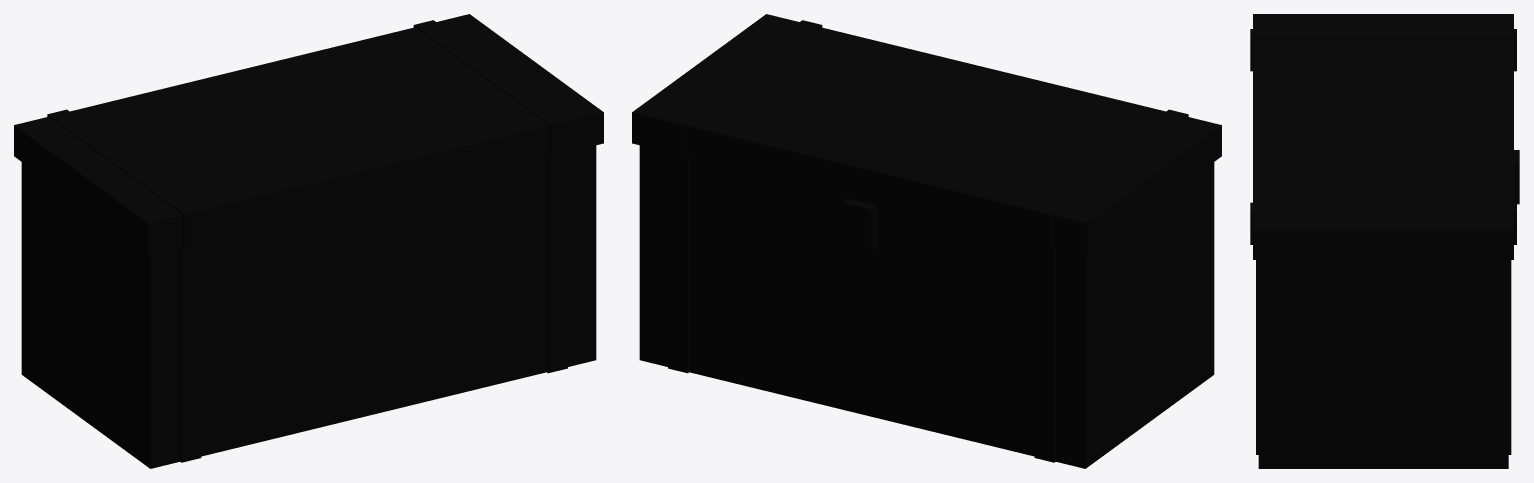
The model's file is SM_chest_trunk.fbx.
3 views of the same model, side by side, from view 1: azimuth 30°, elevation 25°; view 2: azimuth 150°, elevation 25°; view 3: azimuth 270°, elevation 25° (orthographic). The views are drawn at different scales.
Parts seen in each view (by area): view 1: chest_trunk, chest_trunk_lid; view 2: chest_trunk, chest_trunk_lid; view 3: chest_trunk_lid, chest_trunk.
Boxes of the visible parts, x1,y1,x2,y2 form: chest_trunk: (21,145,596,468); chest_trunk_lid: (14,14,603,254); chest_trunk: (639,145,1214,468); chest_trunk_lid: (632,14,1221,254); chest_trunk_lid: (1250,14,1516,259); chest_trunk: (1256,150,1519,468).
Size of the model in its own units: 0.92 by 0.4825 by 0.485.
